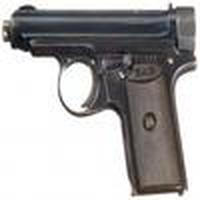gun: (2, 2, 199, 159)
